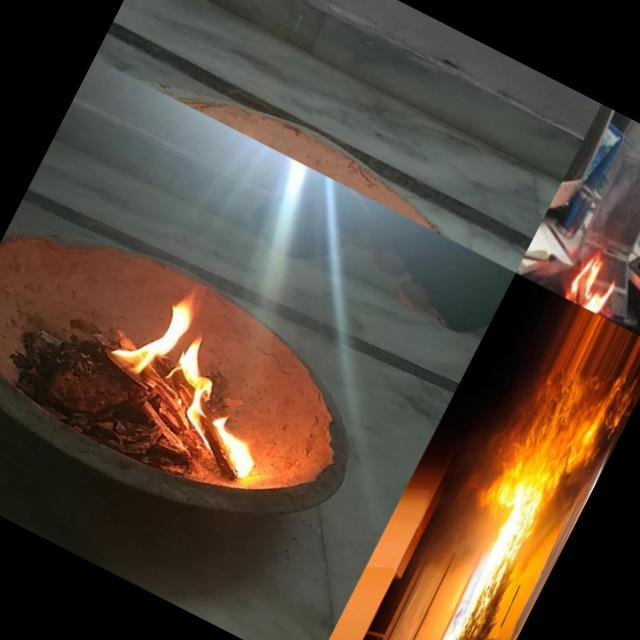fire: (88, 275, 316, 489), (458, 359, 600, 531), (424, 517, 532, 640), (562, 380, 638, 486), (564, 252, 624, 316)
smoke: (412, 487, 506, 585), (569, 143, 640, 258), (515, 471, 585, 577)
